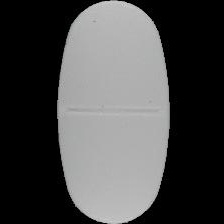0615-7628: (0, 0, 224, 224)
